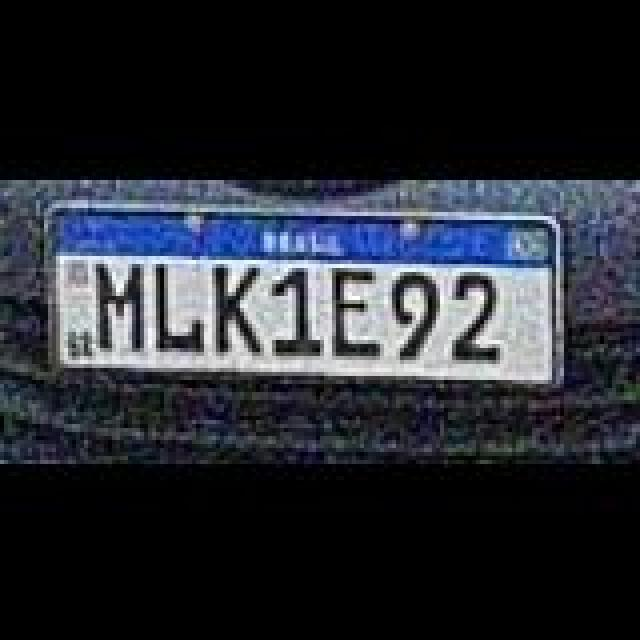1: (270, 264, 322, 352)
2: (452, 270, 500, 362)
9: (392, 266, 440, 358)
E: (336, 262, 384, 354)
K: (216, 262, 264, 354)
L: (150, 262, 202, 354)
M: (100, 258, 148, 350)
